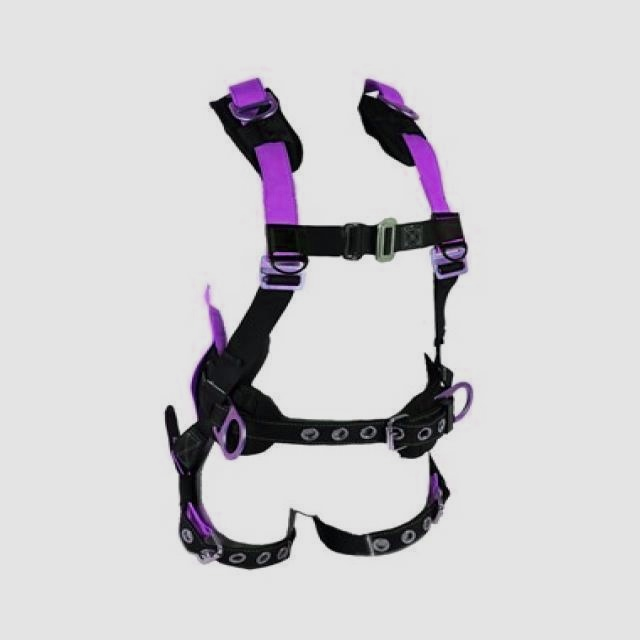safety belt: (173, 59, 468, 585)
